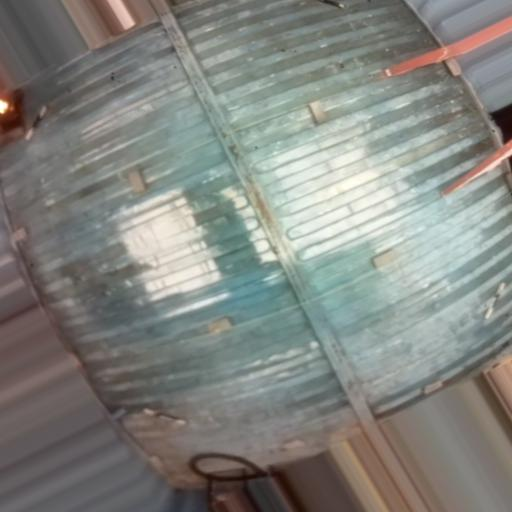Fire: (1, 97, 9, 114)
